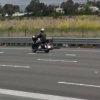Motorcycle: (21, 31, 67, 60)
